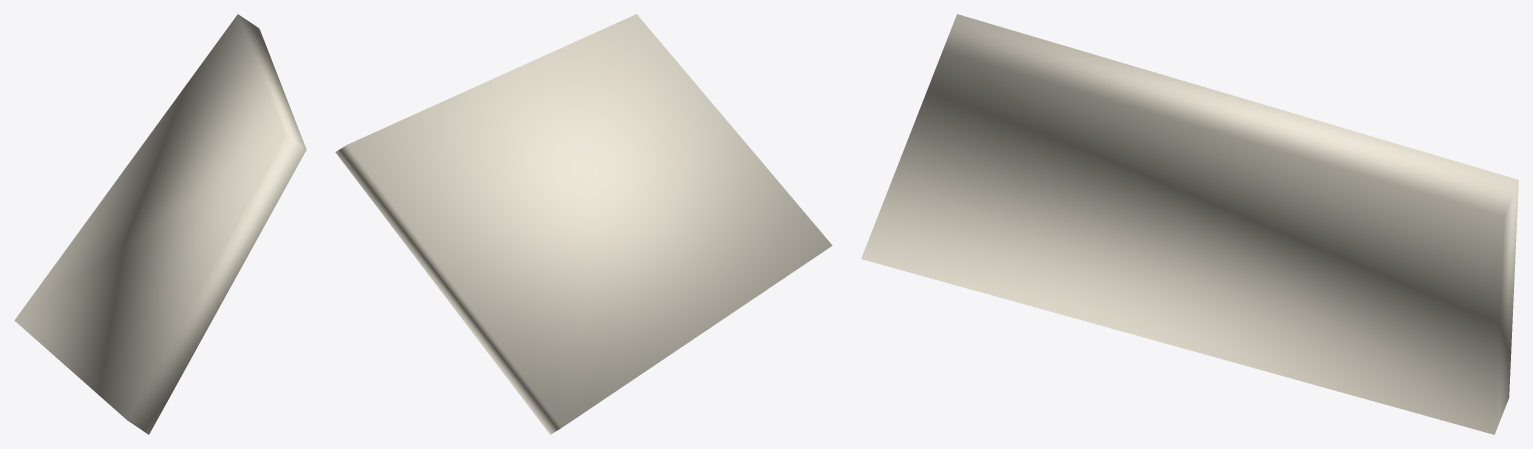
3 views of the same model, side by side, from view 1: azimuth 30°, elevation 25°; view 2: azimuth 150°, elevation 25°; view 3: azimuth 270°, elevation 25° (orthographic). The views are drawn at different scales.
Parts seen in each view (by area): view 1: ZA_7283da01166ec5e9; view 2: ZA_7283da01166ec5e9; view 3: ZA_7283da01166ec5e9.
Part boxes in pixels (box(x1,y1,x2,y2)): ZA_7283da01166ec5e9: box(14, 14, 306, 434); ZA_7283da01166ec5e9: box(335, 14, 832, 434); ZA_7283da01166ec5e9: box(861, 14, 1518, 434).
Size of the model in its own units: 0.00697 by 0.00613 by 0.0076.
